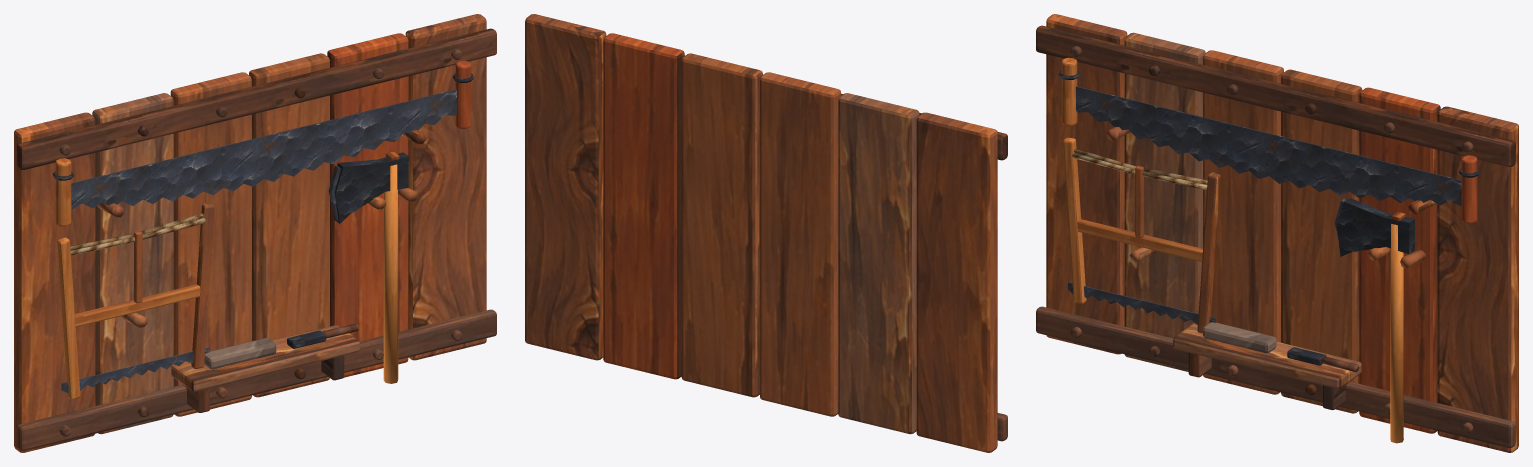
The model's file is mp_saw_wall.glb.
3 views of the same model, side by side, from view 1: azimuth 30°, elevation 25°; view 2: azimuth 150°, elevation 25°; view 3: azimuth 330°, elevation 25° (orthographic).
Parts seen in each view (by area): view 1: model; view 2: model; view 3: model.
Part boxes in pixels (bbox=[...]): model: bbox=[14, 14, 496, 452]; model: bbox=[525, 14, 1007, 452]; model: bbox=[1036, 14, 1518, 452].
Size of the model in its own units: 1.42 by 0.9413 by 0.161.
16 materials, 16 textured.
